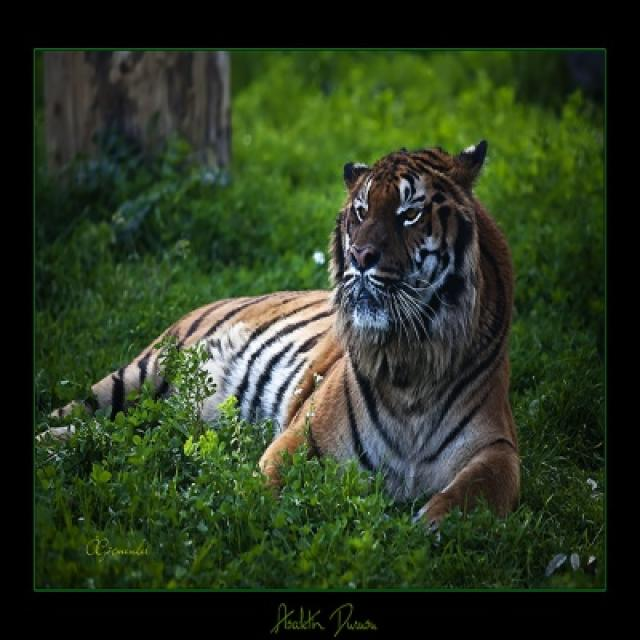Tiger: (75, 131, 517, 521)
